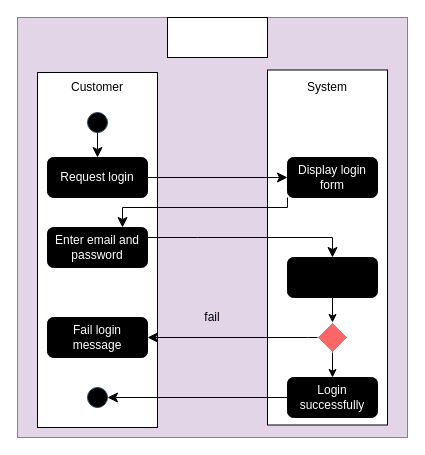
Image size: 425x455. Some labels were removed from this diagram. The box of each missing label's shape, as (x1, y1, x2, y2) in pixels:
Check email and password: (286, 256, 378, 298)
Login: (166, 16, 268, 58)
